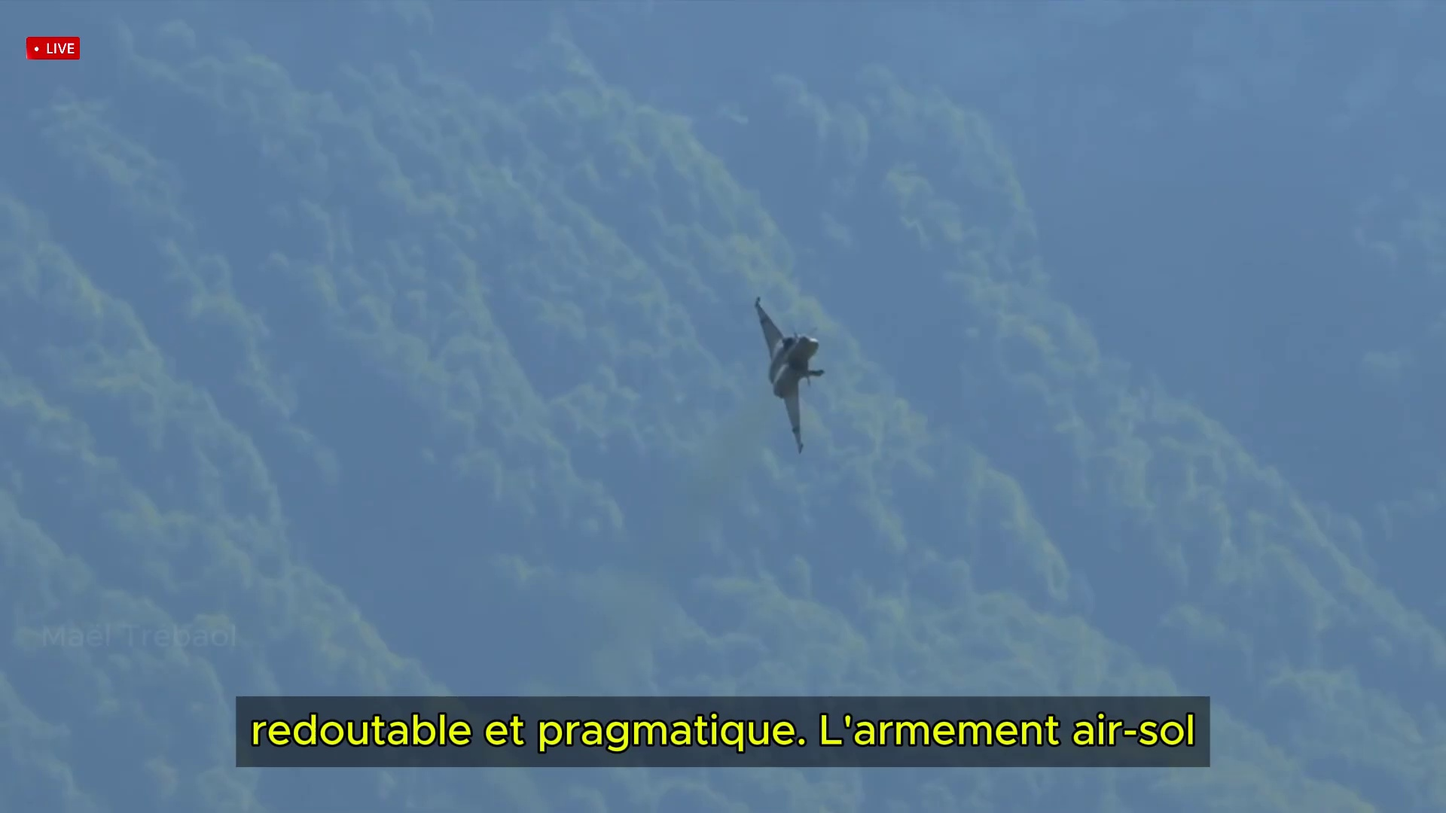Rafale: (751, 291, 831, 456)
